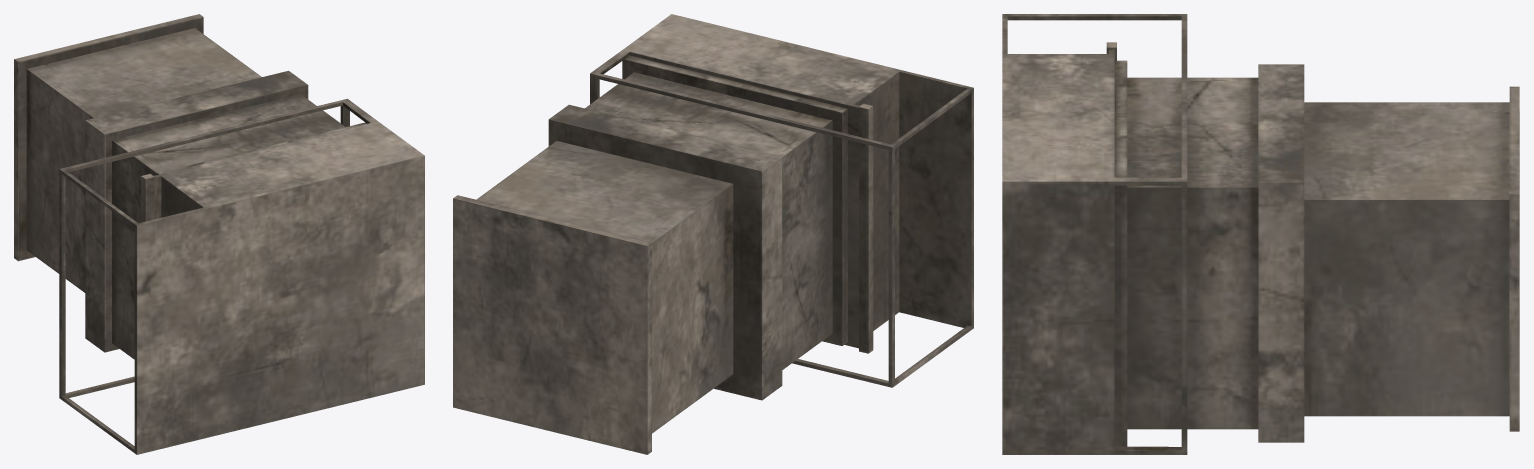
File: bld_c.glb
The picture shows the model from 3 angles, left to right: view 1: azimuth 30°, elevation 25°; view 2: azimuth 150°, elevation 25°; view 3: azimuth 270°, elevation 25°; orthographic projection. The views are drawn at different scales.
Visible parts, largest first — view 1: Building_06_Building_006_0; view 2: Building_06_Building_006_0; view 3: Building_06_Building_006_0.
Boxes of the visible parts, box(x1,y1,x2,y2) form: Building_06_Building_006_0: box(14, 14, 424, 454); Building_06_Building_006_0: box(453, 14, 973, 454); Building_06_Building_006_0: box(1002, 14, 1519, 454).
Bounding box in the file's own units: 6.91 × 5.33 × 9.
Materials: 1 (1 with a texture image).
